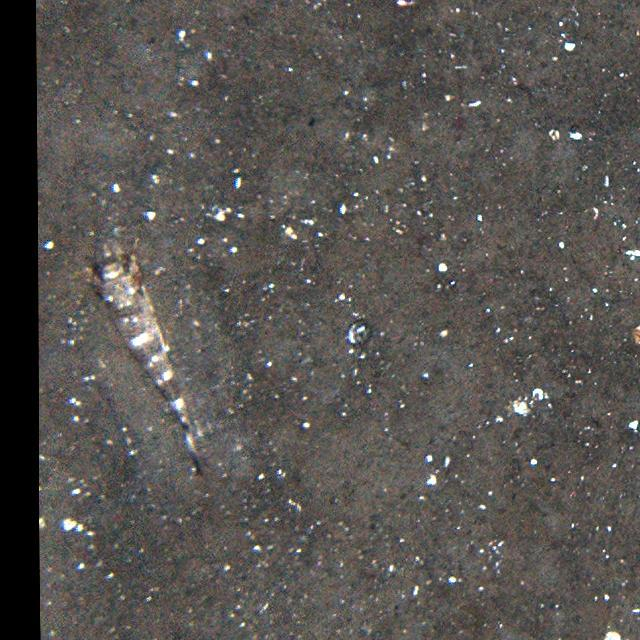roundfish: (84, 233, 213, 482)
